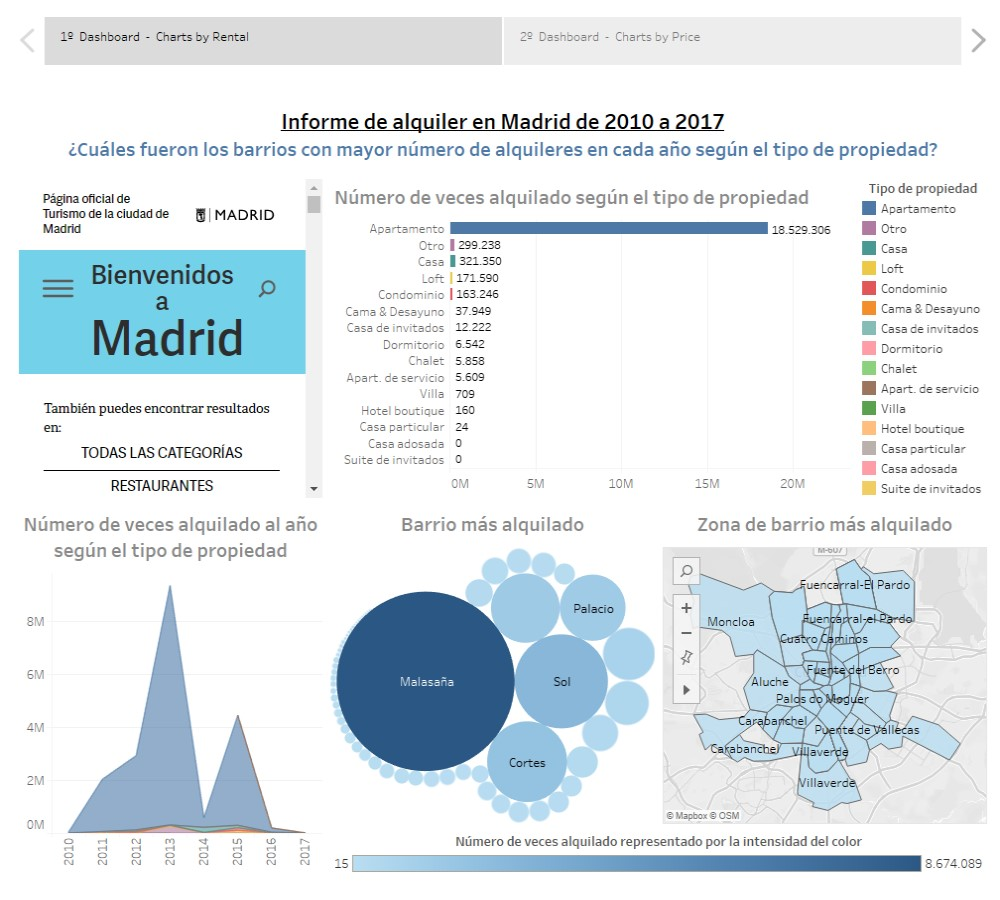

The page's visual inventory and layout, read from the dashboard file:
{"tool":"tableau","page":{"name":"Dashboard Rental","canvas":[1000,800],"ordinal":1},"visuals":[{"type":"text","box":[8,8,984,82]},{"type":"web page","param":"https://www.esmadrid.com/alojamientos/busqueda?text=Malasaña","box":[8,90,314,327]},{"type":"worksheet","title":"Property Type Rental","mark":"Bar","rows":["Property Type"],"cols":["Nº veces alquilado"],"box":[322,90,533,327]},{"type":"legend","title":"Property Type Rental","param":"[federated.1udwh8q0tbumw4154ofjs1mkrbgk].[none:Property Type:nk]","box":[855,90,137,327]},{"type":"worksheet","title":"Host Since Rental","mark":"Area","rows":["Nº veces alquilado"],"cols":["Host Since"],"box":[8,417,314,375]},{"type":"worksheet","title":"Neighborhood Rental","mark":"Circle","box":[322,417,335,326]},{"type":"worksheet","title":"Zipcode Rental","mark":"Multipolygon","box":[657,417,335,326]},{"type":"legend","title":"Neighborhood Rental","param":"[federated.1udwh8q0tbumw4154ofjs1mkrbgk].[sum:Nº veces alquilado:qk]","box":[322,743,670,49]}]}

Visuals, with their boxes on the page's 1000x800 design canvas (x1, y1, x2, y2). These are canvas units, not pixel positions in the 1000x900 screenshot, which may show the page scaled, cropped or inside an application window:
text: (left=8, top=8, right=992, bottom=90)
web page: (left=8, top=90, right=322, bottom=417)
"Property Type Rental" worksheet (Bar marks): (left=322, top=90, right=855, bottom=417)
"Property Type Rental" legend: (left=855, top=90, right=992, bottom=417)
"Host Since Rental" worksheet (Area marks): (left=8, top=417, right=322, bottom=792)
"Neighborhood Rental" worksheet (Circle marks): (left=322, top=417, right=657, bottom=743)
"Zipcode Rental" worksheet (Multipolygon marks): (left=657, top=417, right=992, bottom=743)
"Neighborhood Rental" legend: (left=322, top=743, right=992, bottom=792)
